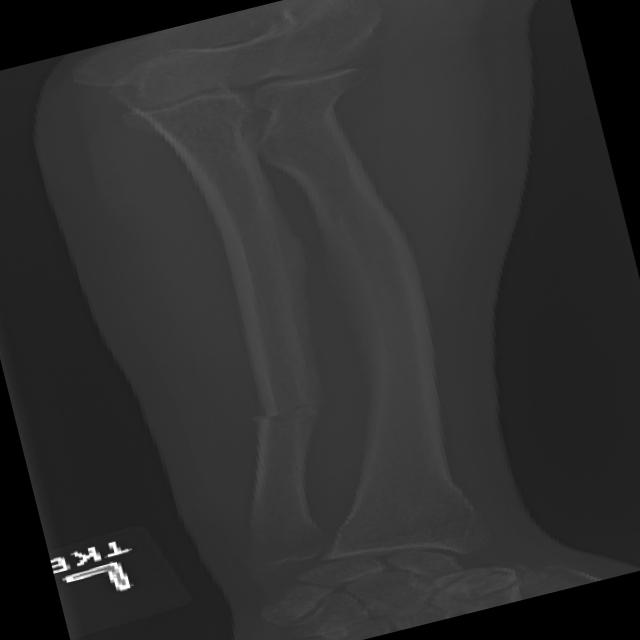forearm fracture: (180, 369, 380, 476)
